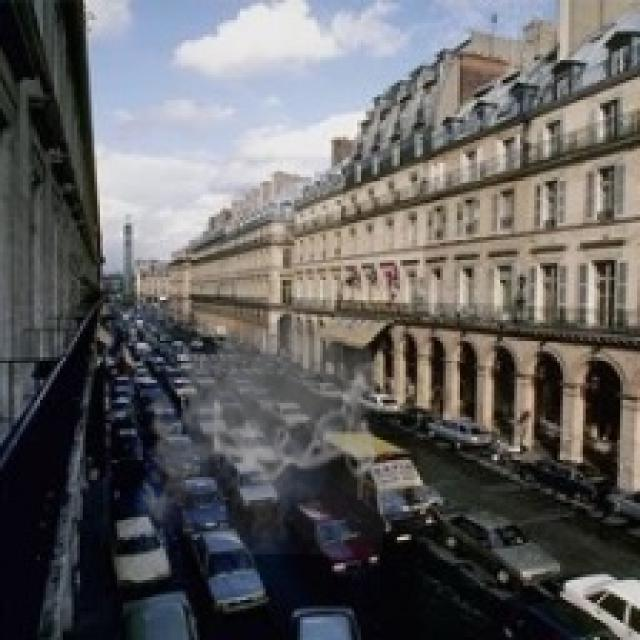smoke: (134, 294, 386, 554)
